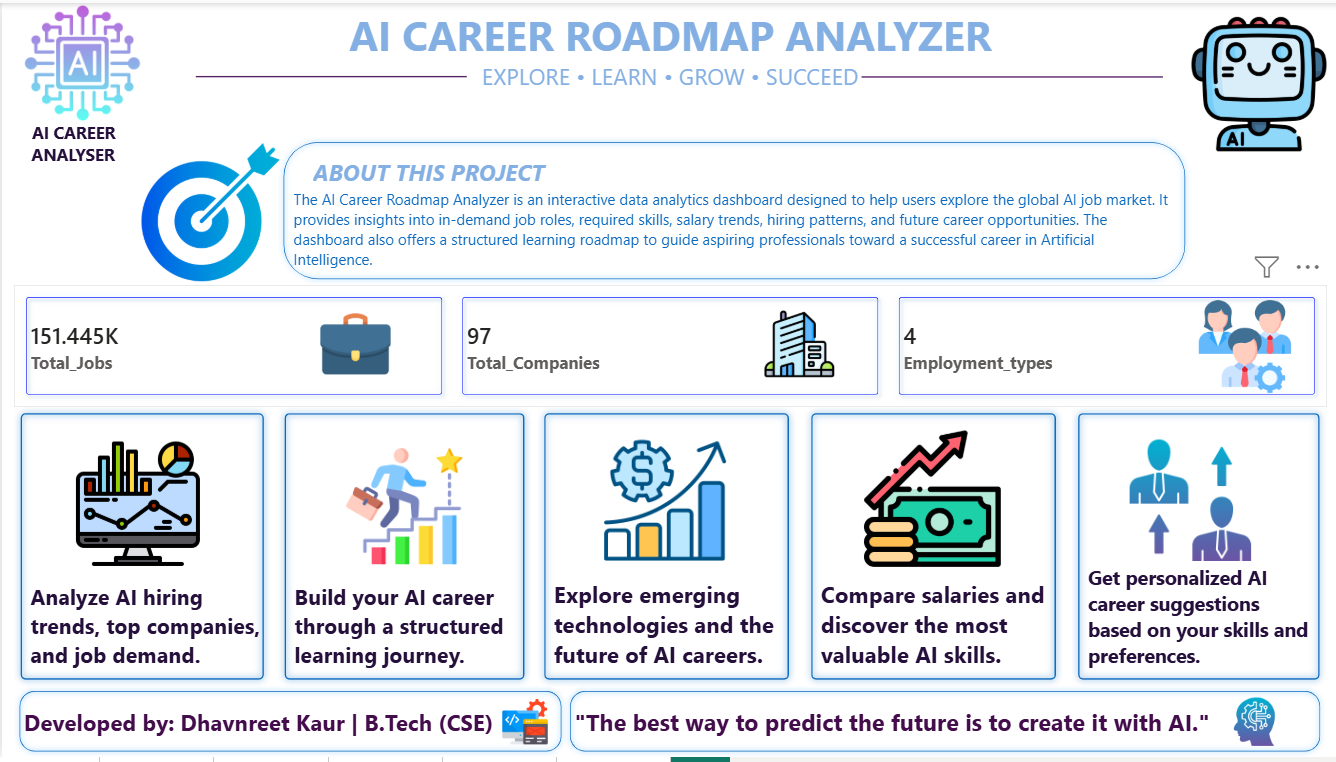

The dashboard page shown, as its layout file describes it:
{"tool":"powerbi","page":{"name":"Page 1","canvas":[1920,1080],"ordinal":0},"visuals":[{"type":"textbox","box":[16.7,0,1880.1,298.2],"z":0},{"type":"shape","box":[1231.1,33.4,431.9,143.2],"z":1000},{"type":"shape","box":[276.8,16.7,388.9,176.6],"z":2000},{"type":"shape","box":[16.7,577.4,367.4,400.8],"z":3000},{"type":"image","box":[62,625.1,264.8,183.7],"z":4000},{"type":"image","box":[462.9,634.7,229,174.2],"z":5000},{"type":"image","box":[1185.8,613.2,293.5,195.6],"z":6000},{"type":"image","box":[808.8,625.1,283.9,174.2],"z":7000},{"type":"image","box":[1579.5,625.1,245.7,174.2],"z":8000},{"type":"shape","box":[396,577.4,362.7,400.8],"z":9000},{"type":"shape","box":[1150,577.4,369.8,400.8],"z":10000},{"type":"shape","box":[768,577.4,369.8,400.8],"z":11000},{"type":"shape","box":[1531.8,577.4,365,400.8],"z":12000},{"type":"cardVisual","fields":{"Data":["CountNonNull(salaries.Jobs)","Count(salaries.company_location)","Count(salaries.employment_type)"]},"box":[16.7,403.2,1880.1,174.2],"z":13000},{"type":"image","box":[1052.2,439,178.9,100.2],"z":14000},{"type":"image","box":[396.1,439,221.9,100.2],"z":15000},{"type":"image","box":[1703.5,424.7,152.7,133.6],"z":16000},{"type":"image","box":[200.4,190.9,198,217.1],"z":17000},{"type":"image","box":[16.7,0,195.6,171.8],"z":18000},{"type":"image","box":[1703.5,16.7,193.3,198],"z":19000},{"type":"shape","box":[396.1,190.9,1307.5,212.3],"z":20000},{"type":"textbox","box":[441.4,214.7,422.3,83.5],"z":21000},{"type":"shape","box":[16.7,978.2,792.1,102.6],"z":22000},{"type":"shape","box":[806.4,978.2,1090.4,102.6],"z":23000},{"type":"image","box":[691.9,994.9,114.5,69.2],"z":24000},{"type":"image","box":[1732.2,994.9,124.1,69.2],"z":25000}]}

Visuals, with their boxes in screenshot pixels (x1, y1, x2, y2), scaled from the page's 1920x1080 canvas onto the 1336x762 screenshot:
textbox: crop(12, 0, 1320, 210)
shape: crop(857, 24, 1157, 125)
shape: crop(193, 12, 463, 136)
shape: crop(12, 407, 267, 690)
image: crop(43, 441, 227, 571)
image: crop(322, 448, 481, 571)
image: crop(825, 433, 1029, 571)
image: crop(563, 441, 760, 564)
image: crop(1099, 441, 1270, 564)
shape: crop(276, 407, 528, 690)
shape: crop(800, 407, 1058, 690)
shape: crop(534, 407, 792, 690)
shape: crop(1066, 407, 1320, 690)
cardVisual - CountNonNull(salaries.Jobs) x Count(salaries.company_location): crop(12, 284, 1320, 407)
image: crop(732, 310, 857, 380)
image: crop(276, 310, 430, 380)
image: crop(1185, 300, 1292, 394)
image: crop(139, 135, 277, 288)
image: crop(12, 0, 148, 121)
image: crop(1185, 12, 1320, 151)
shape: crop(276, 135, 1185, 284)
textbox: crop(307, 151, 601, 210)
shape: crop(12, 690, 563, 761)
shape: crop(561, 690, 1320, 761)
image: crop(481, 702, 561, 751)
image: crop(1205, 702, 1292, 751)
